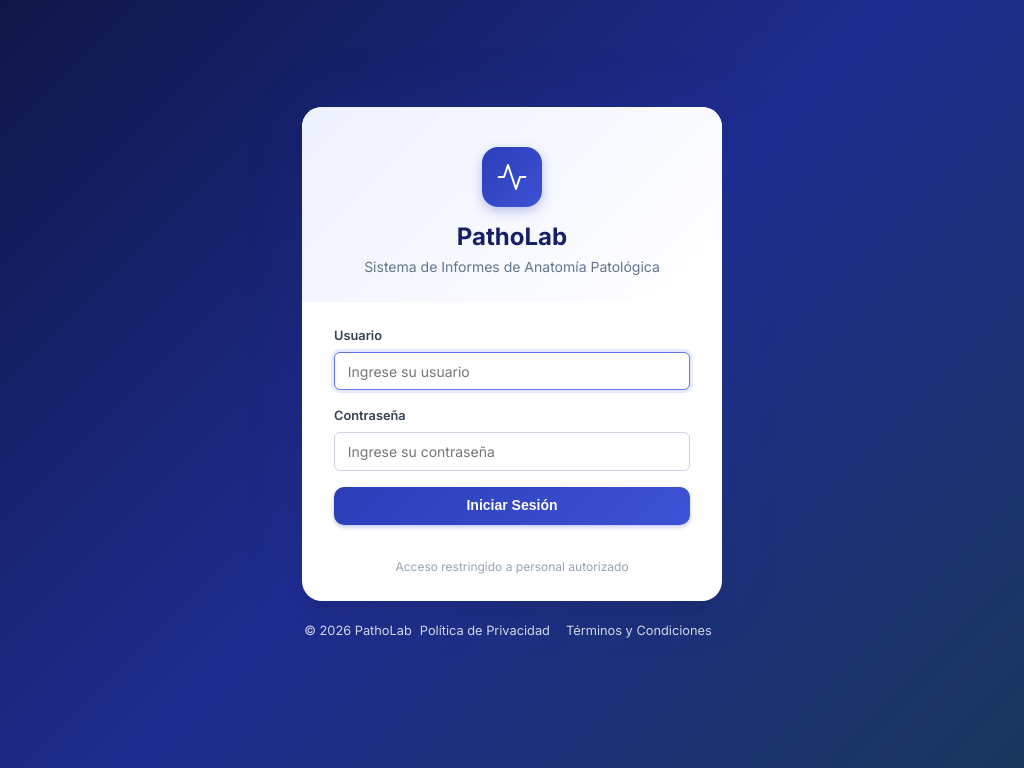
Enlaces legales sin sesión › desde el login se abre la política de privacidad
Click the link "Política de Privacidad" at [485, 630], box [420,623,550,638]
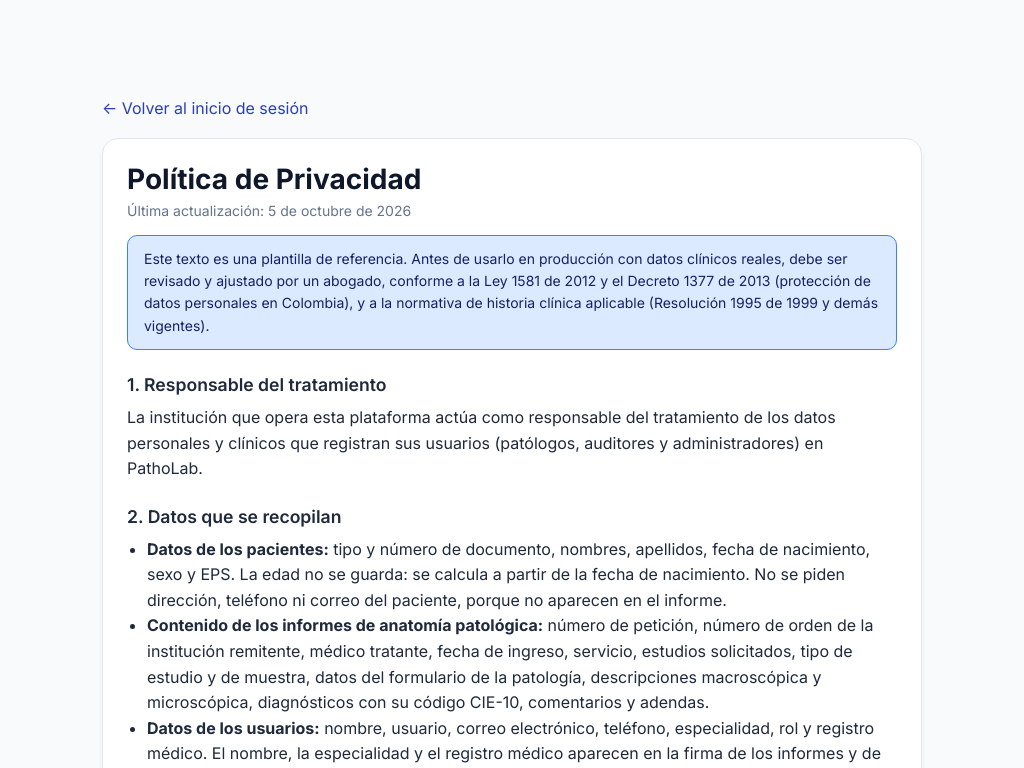
Result: the heading "Política de Privacidad" is shown at [127,162,421,196]
